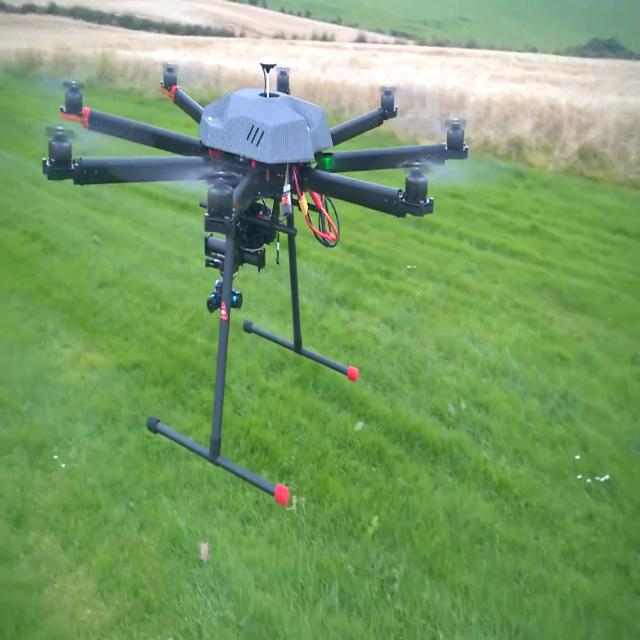drone: (28, 3, 516, 510)
